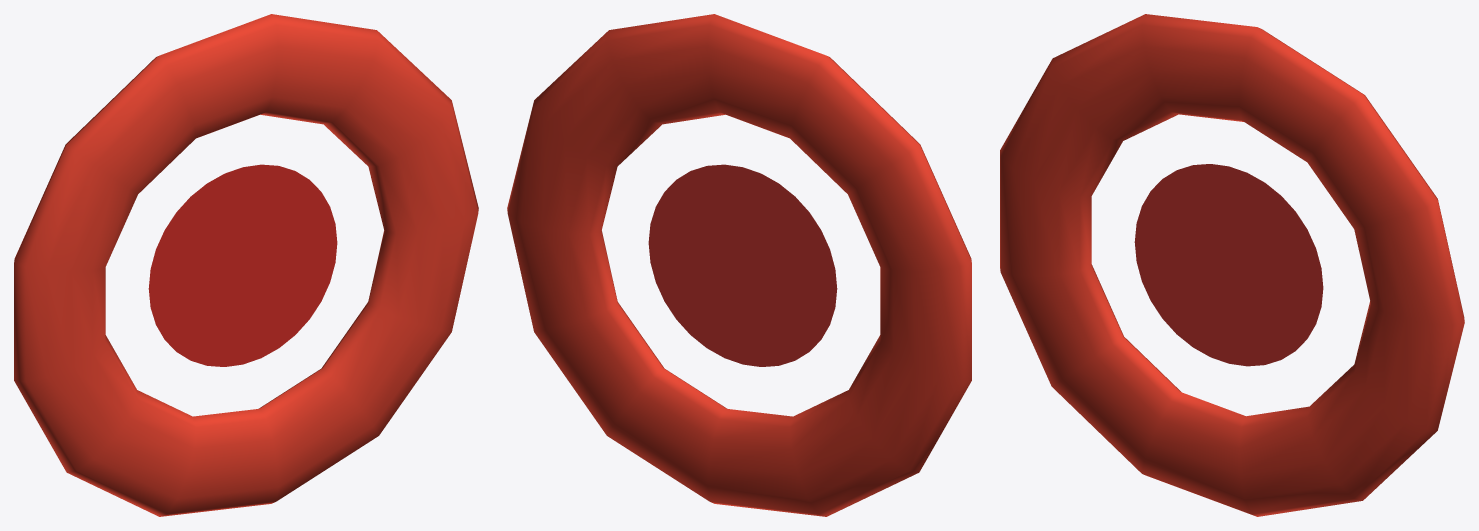
Rendered from de-buff.glb.
3 views of the same model, side by side, from view 1: azimuth 30°, elevation 25°; view 2: azimuth 150°, elevation 25°; view 3: azimuth 330°, elevation 25° (orthographic).
Parts seen in each view (by area): view 1: Torus, Circle; view 2: Torus, Circle; view 3: Torus, Circle.
Part boxes in pixels (<box>): Torus: <box>14,14,478,516</box>; Circle: <box>148,164,337,366</box>; Torus: <box>507,14,971,516</box>; Circle: <box>648,164,837,366</box>; Torus: <box>1000,14,1464,516</box>; Circle: <box>1134,164,1323,366</box>.
Size of the model in its own units: 2.46 by 2.48 by 0.2082.
